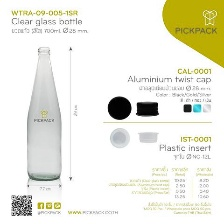bottle: (20, 38, 66, 182)
